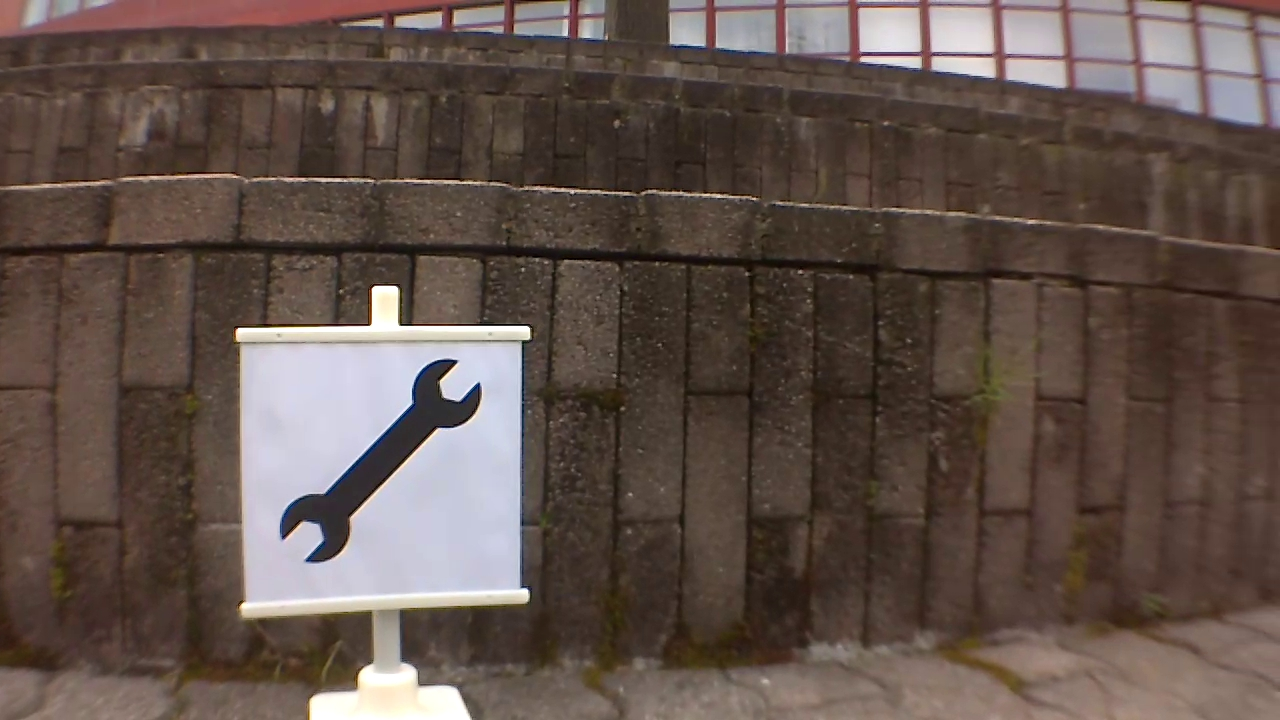wrench: (273, 356, 486, 569)
